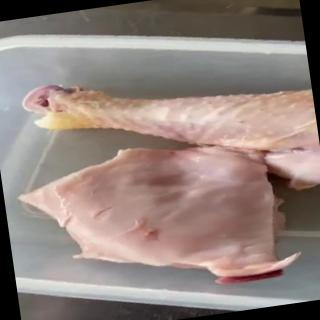Ayam: (12, 126, 305, 313), (20, 47, 320, 226)
